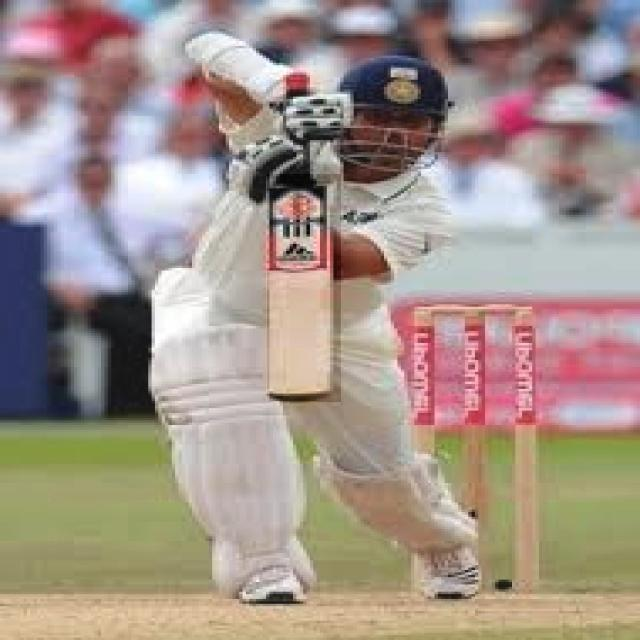bat: (264, 186, 343, 404)
toe: (260, 391, 346, 405)
